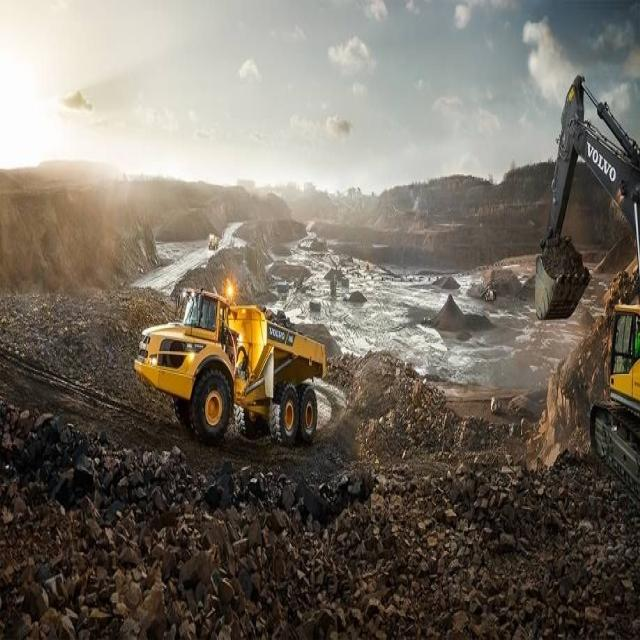dump_truck: (135, 270, 334, 451)
excavator: (529, 56, 639, 526)
